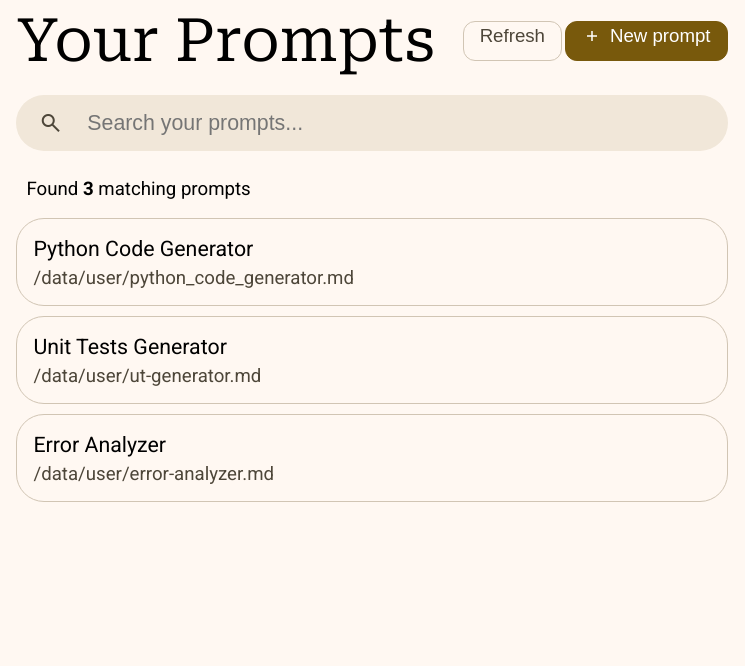
screen transitions › transition to "Prompt Editor" screen for new prompts should be made when user clicks the new prompt button
The width and height of the screenshot is (745, 666).
Click the button "New prompt" at (646, 41), box [565, 21, 728, 61]
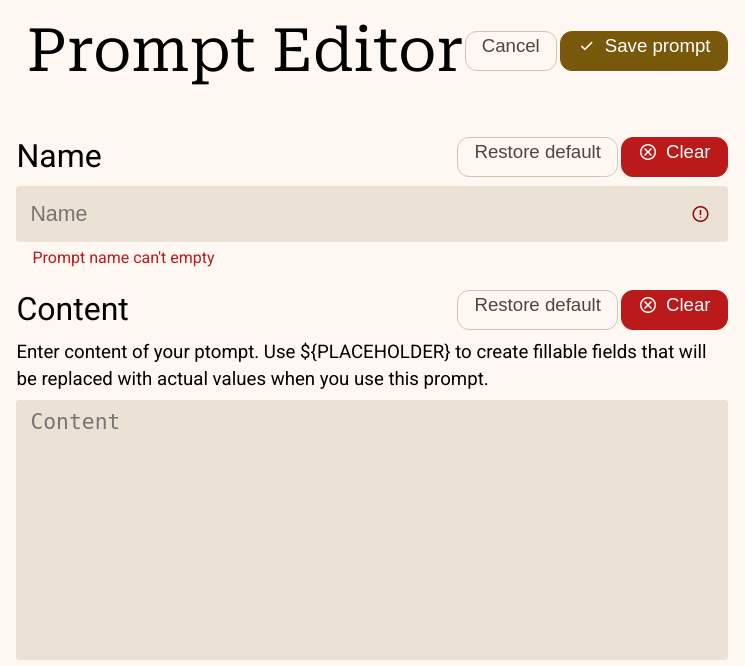
Now the text "Prompt Editor" is shown, box [26, 16, 463, 85]
